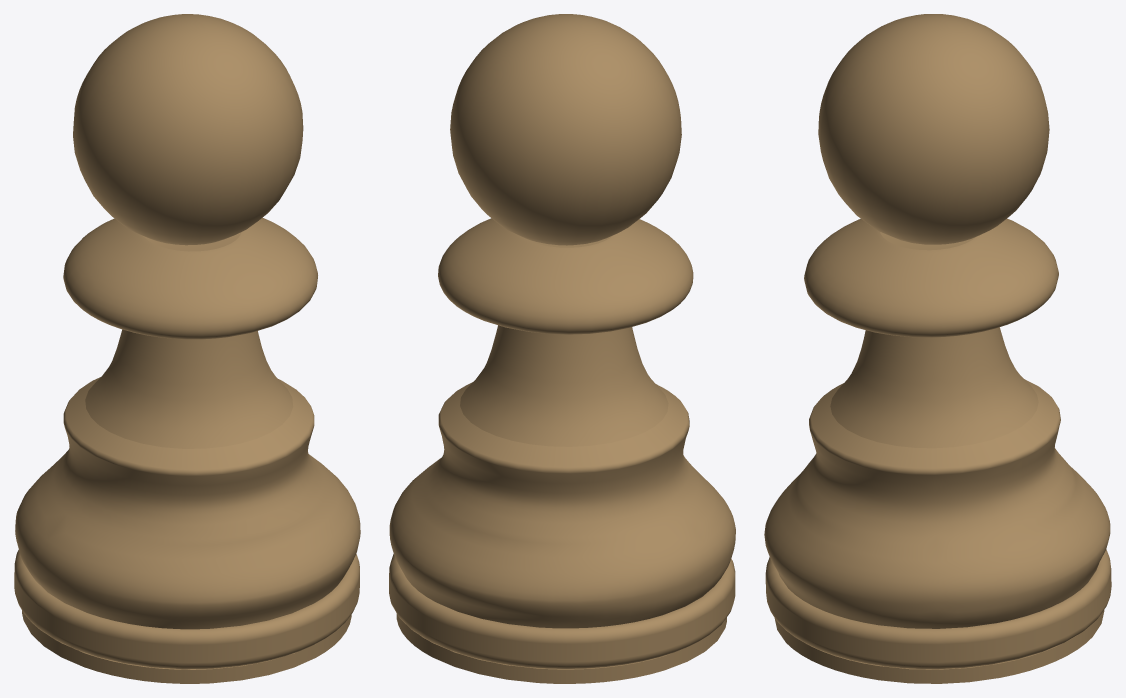
Rendered from PawnGold.fbx.
The picture shows the model from 3 angles, left to right: view 1: azimuth 30°, elevation 25°; view 2: azimuth 150°, elevation 25°; view 3: azimuth 270°, elevation 25°; orthographic projection.
Visible parts, largest first — view 1: Пешка (2) (2); view 2: Пешка (2) (2); view 3: Пешка (2) (2).
Boxes of the visible parts, <box> form: Пешка (2) (2): <box>14,14,360,683</box>; Пешка (2) (2): <box>389,14,735,683</box>; Пешка (2) (2): <box>764,14,1111,683</box>.
Bounding box in the file's own units: 1.54 × 2.91 × 1.55.
